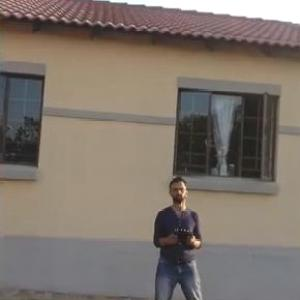follow: (146, 168, 207, 299)
